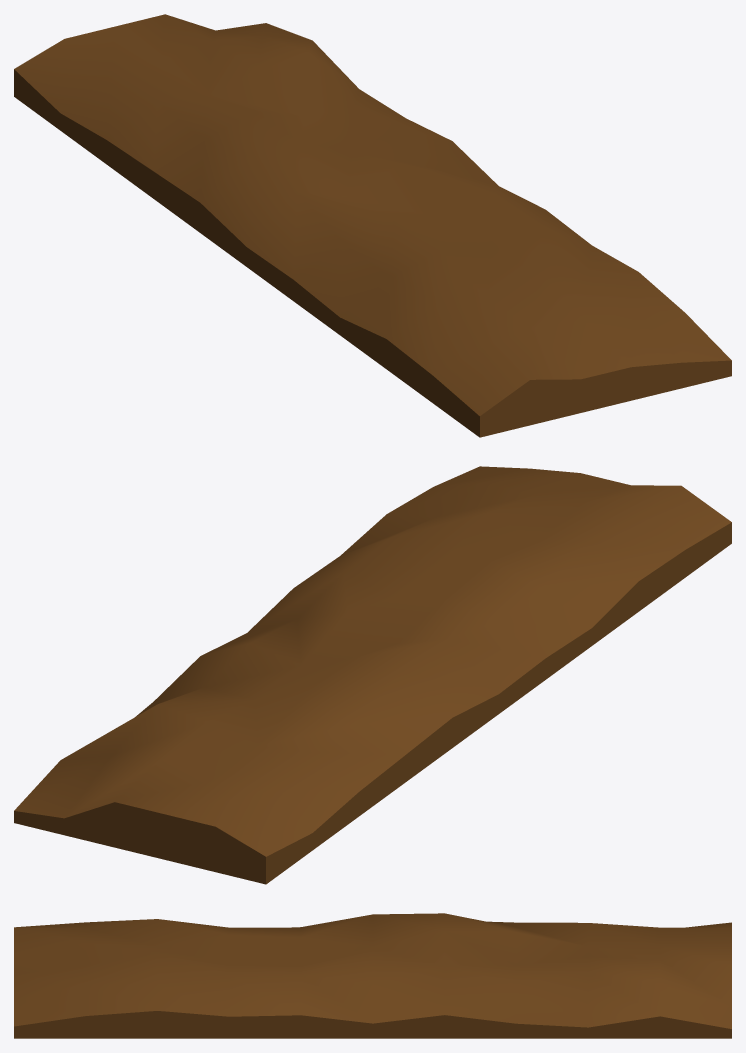
File: dirt 1.fbx
The picture shows the model from 3 angles, top to bottom: view 1: azimuth 30°, elevation 25°; view 2: azimuth 150°, elevation 25°; view 3: azimuth 270°, elevation 25°; orthographic projection. The views are drawn at different scales.
Parts seen in each view (by area): view 1: pCube1; view 2: pCube1; view 3: pCube1.
Boxes of the visible parts, bbox=[...] form: pCube1: bbox=[14, 14, 731, 437]; pCube1: bbox=[14, 466, 731, 884]; pCube1: bbox=[14, 913, 731, 1038].
Bounding box in the file's own units: 5.8 × 1.44 × 18.55.
